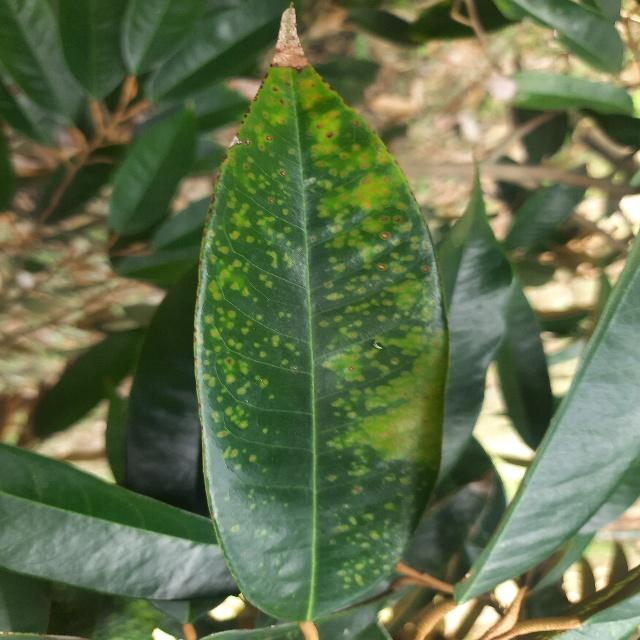Leaf Spot: (187, 0, 453, 631)
